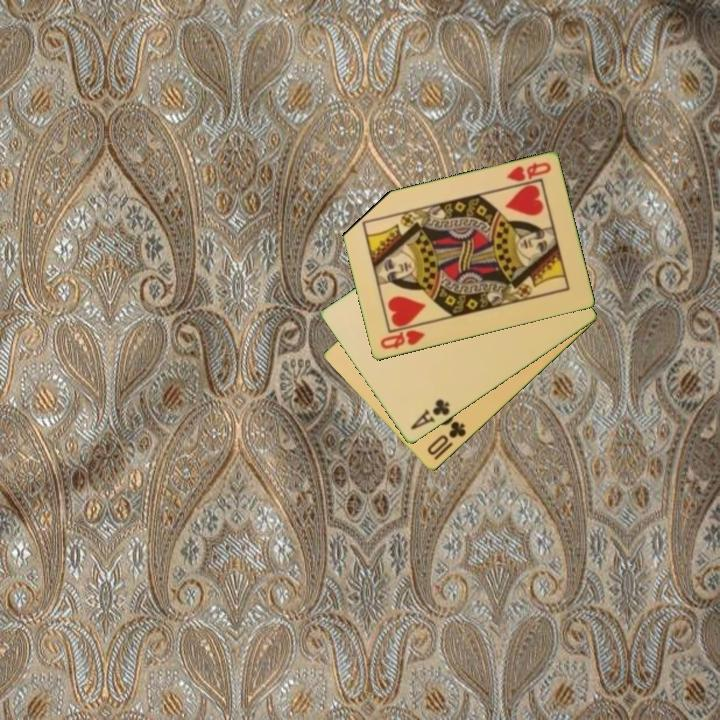10c: (424, 418, 469, 459)
Ac: (407, 396, 453, 433)
Qh: (377, 326, 428, 352), (503, 159, 554, 185)
